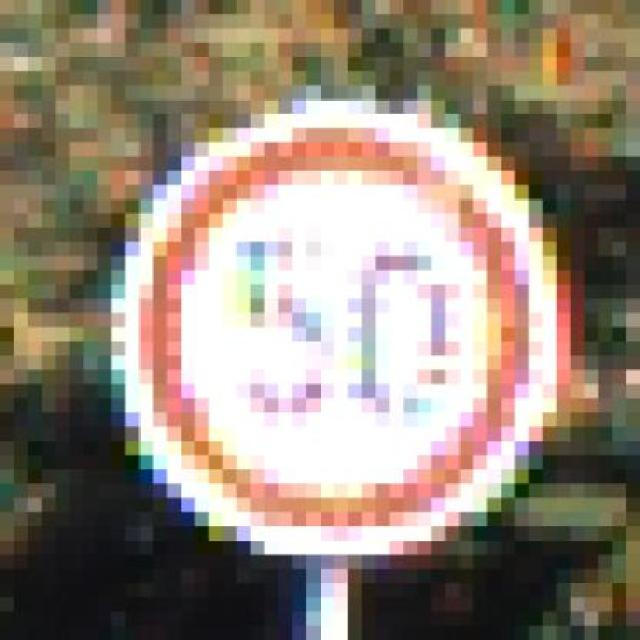50 mph speed limit: (96, 105, 610, 561)
